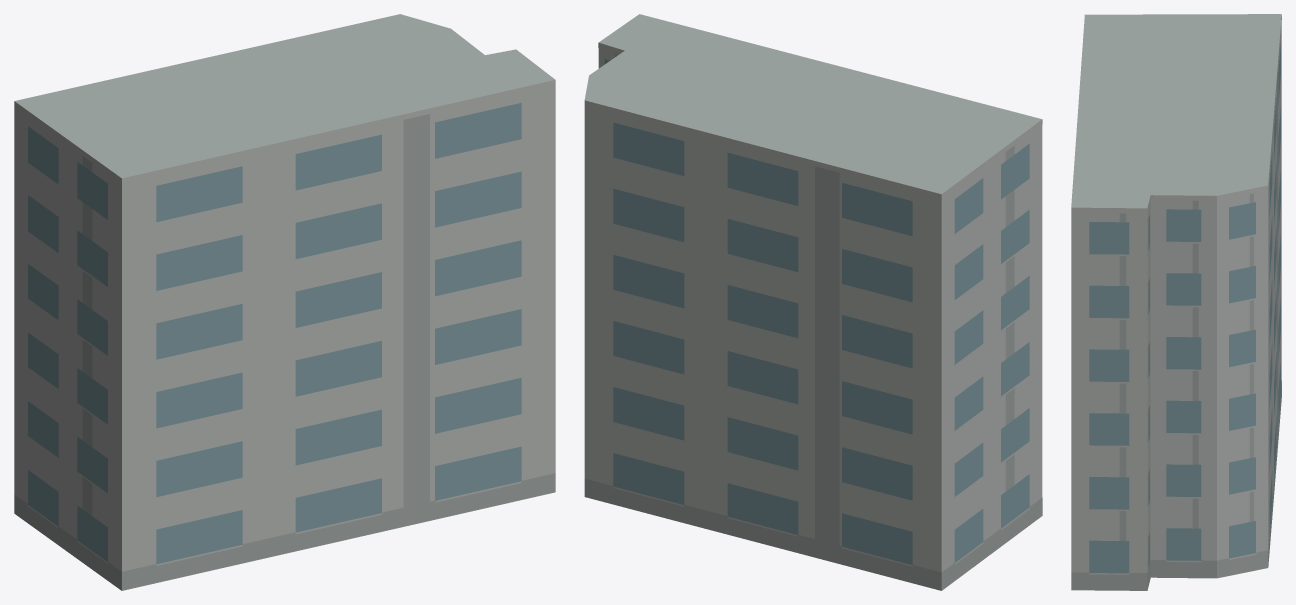
The model's file is survey-upis-32567822.glb.
3 renders of one model, left to right at view 1: azimuth 30°, elevation 25°; view 2: azimuth 150°, elevation 25°; view 3: azimuth 270°, elevation 25°, orthographic. The views are drawn at different scales.
Parts seen in each view (by area): view 1: survey-upis-32567822.tmp; view 2: survey-upis-32567822.tmp; view 3: survey-upis-32567822.tmp.
Part boxes in pixels (bbox=[...]): survey-upis-32567822.tmp: bbox=[14, 14, 555, 590]; survey-upis-32567822.tmp: bbox=[584, 14, 1042, 590]; survey-upis-32567822.tmp: bbox=[1071, 14, 1281, 590].
Bounding box in the file's own units: 19.94 × 18.3 × 9.14.
